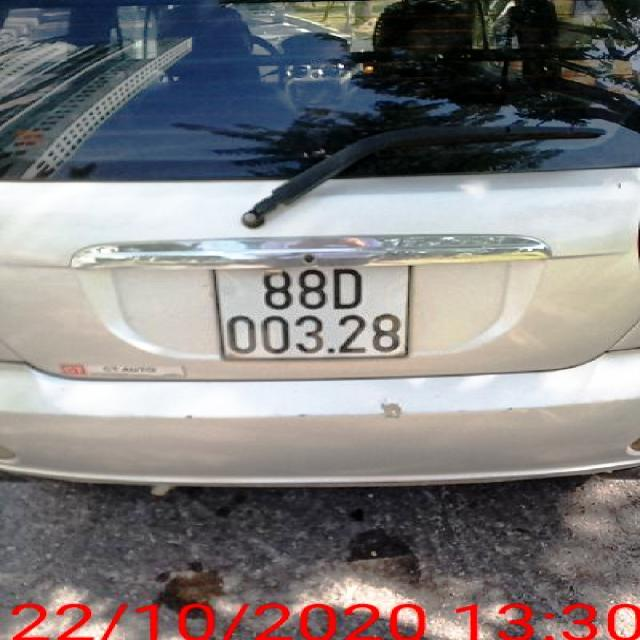license_plate: (213, 262, 410, 358)
